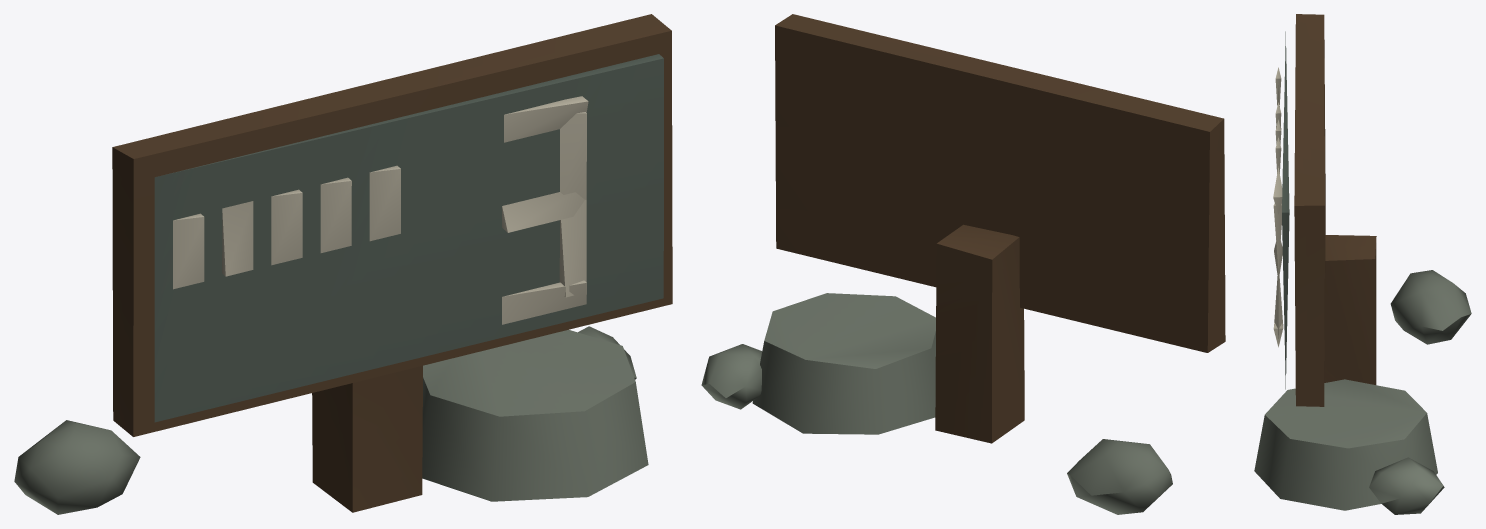
Rendered from bench_sign_a_lod2.glb.
3 views of the same model, side by side, from view 1: azimuth 30°, elevation 25°; view 2: azimuth 150°, elevation 25°; view 3: azimuth 270°, elevation 25° (orthographic). The views are drawn at different scales.
Visible parts, largest first — view 1: Surface.001; view 2: Surface.001; view 3: Surface.001.
Part boxes in pixels (x1,y1,x2,y2): Surface.001: (14,14,672,514); Surface.001: (701,14,1225,514); Surface.001: (1254,14,1471,514).
Size of the model in its own units: 2.04 by 1.42 by 0.8951.
